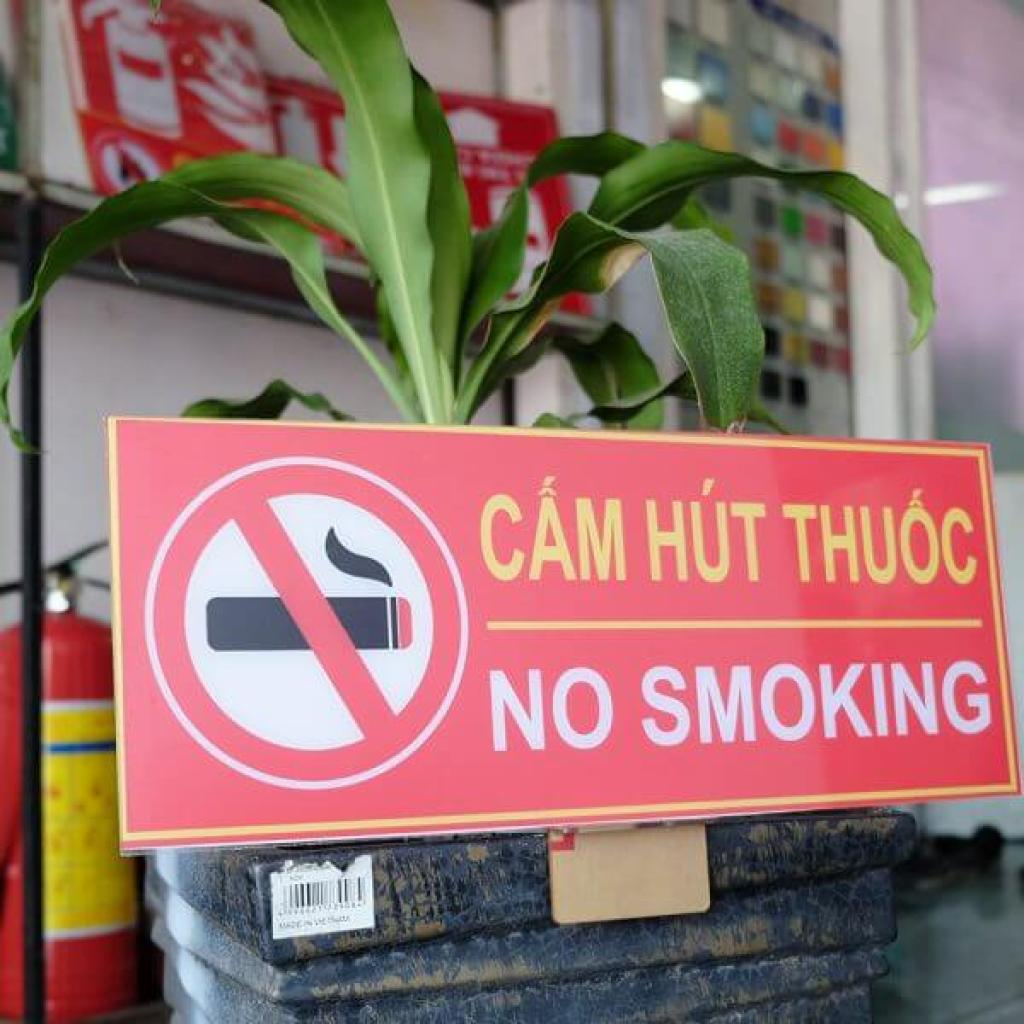text: (777, 490, 988, 596), (470, 471, 634, 587), (644, 474, 776, 592), (488, 657, 625, 765)
